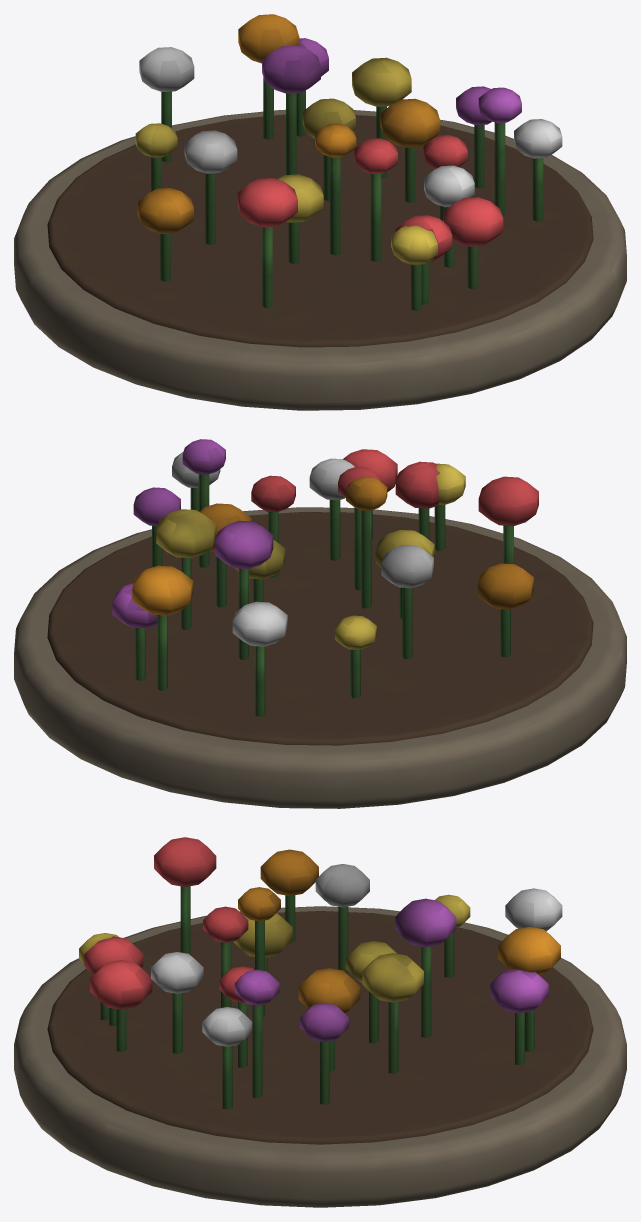
The model's file is FlowerBed.fbx.
3 views of the same model, one above another, from view 1: azimuth 30°, elevation 25°; view 2: azimuth 150°, elevation 25°; view 3: azimuth 270°, elevation 25° (orthographic).
Parts seen in each view (by area): view 1: FlowerBed_Body; view 2: FlowerBed_Body; view 3: FlowerBed_Body.
Part boxes in pixels (x1,y1,x2,y2): FlowerBed_Body: (14,14,626,410); FlowerBed_Body: (14,439,626,808); FlowerBed_Body: (14,837,626,1207).
Bounding box in the file's own units: 2.2 × 0.7669 × 2.2.
